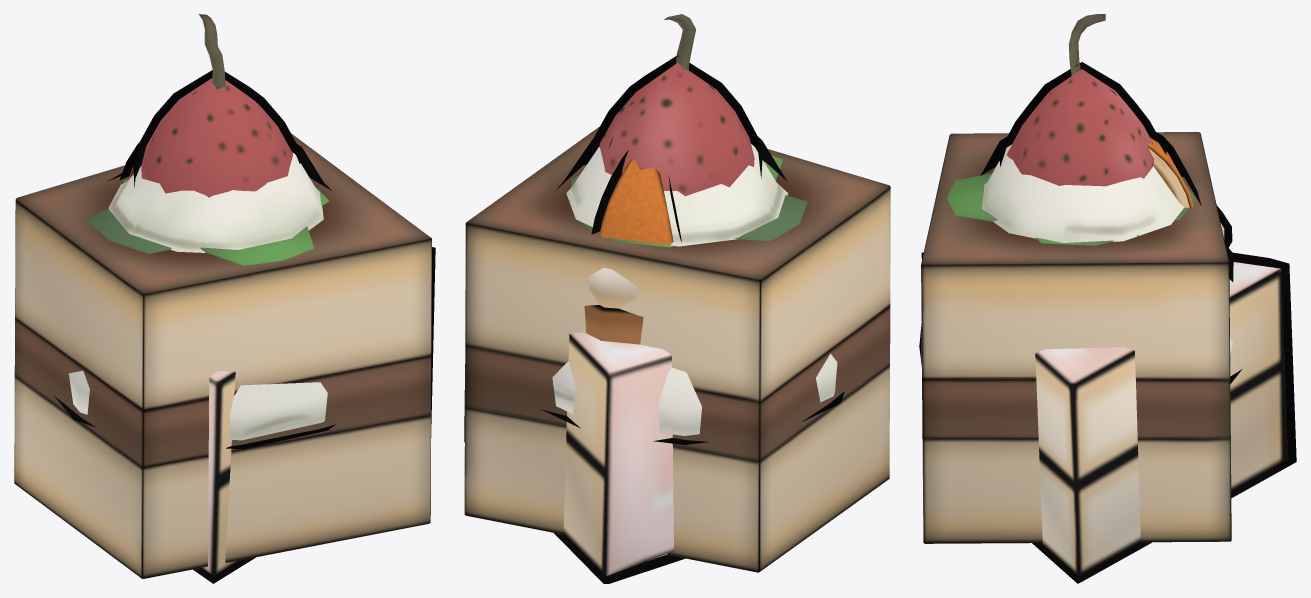
File: Pastelito4.glb
3 renders of one model, left to right at view 1: azimuth 30°, elevation 25°; view 2: azimuth 150°, elevation 25°; view 3: azimuth 270°, elevation 25°, orthographic. The views are drawn at different scales.
Visible parts, largest first — view 1: Cake_strawberry_Cake_strawberry_0, Cupcake_Outline_0, Cake_orange_Outline_0; view 2: Cake_strawberry_Cake_strawberry_0, Cake_orange_Outline_0, Cupcake_Outline_0, Souffle.001_Souffle_0; view 3: Cake_strawberry_Cake_strawberry_0, Cake_orange_Outline_0, Cupcake_Outline_0, Souffle.001_Souffle_0.
Boxes of the visible parts, left/top/right/bottom form: Cake_strawberry_Cake_strawberry_0: left=14, top=70, right=431, bottom=578; Cupcake_Outline_0: left=54, top=14, right=335, bottom=449; Cake_orange_Outline_0: left=119, top=143, right=435, bottom=583; Cake_strawberry_Cake_strawberry_0: left=464, top=55, right=890, bottom=572; Cake_orange_Outline_0: left=464, top=150, right=684, bottom=583; Cupcake_Outline_0: left=540, top=14, right=844, bottom=444; Souffle.001_Souffle_0: left=584, top=267, right=643, bottom=344; Cake_strawberry_Cake_strawberry_0: left=921, top=62, right=1231, bottom=543; Cake_orange_Outline_0: left=921, top=127, right=1296, bottom=583; Cupcake_Outline_0: left=919, top=14, right=1242, bottom=383; Souffle.001_Souffle_0: left=1216, top=205, right=1233, bottom=281.
Bounding box in the file's own units: 2.58 × 3.31 × 2.35.
5 materials, 4 textured.
